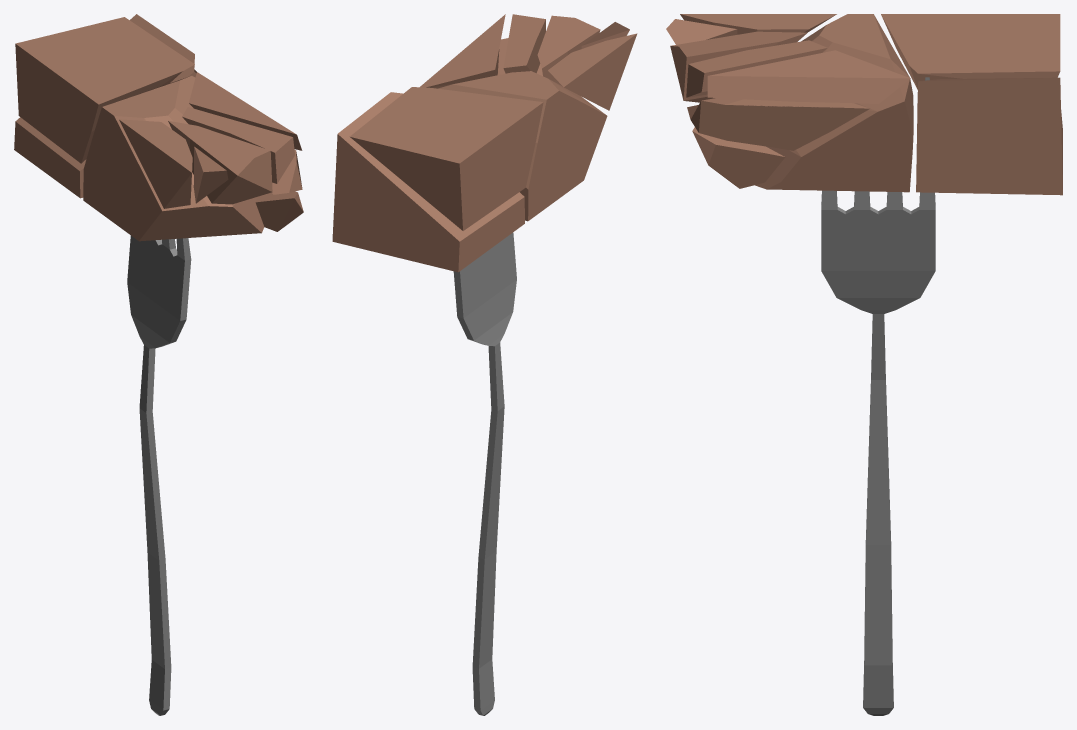
File: hammer_kaputt.glb
3 views of the same model, side by side, from view 1: azimuth 30°, elevation 25°; view 2: azimuth 150°, elevation 25°; view 3: azimuth 270°, elevation 25° (orthographic). The views are drawn at different scales.
Visible parts, largest first — view 1: Cube_cell.031_cell.003, Cube_cell.031_cell.008, Gabel, Cube_cell.031_cell.002, Gabel.001, Cube_cell.031_cell.009, Cube_cell.031_cell.006, Cube_cell.031_cell, Cube_cell.031_cell.004, Cube_cell.031_cell.007, Cube_cell.031_cell.005, Cube_cell.031_cell.001; view 2: Cube_cell.031_cell.003, Cube_cell.031_cell.006, Cube_cell.031_cell.008, Gabel, Gabel.001, Cube_cell.031_cell.009, Cube_cell.031_cell.004, Cube_cell.031_cell.002, Cube_cell.031_cell, Cube_cell.031_cell.005; view 3: Cube_cell.031_cell.006, Gabel, Cube_cell.031_cell.008, Cube_cell.031_cell.003, Cube_cell.031_cell.004, Cube_cell.031_cell.001, Gabel.001, Cube_cell.031_cell.007, Cube_cell.031_cell.002, Cube_cell.031_cell, Cube_cell.031_cell.009, Cube_cell.031_cell.005.
Part boxes in pixels (x1,y1,x2,y2): Cube_cell.031_cell.003: (15,17,194,163); Cube_cell.031_cell.008: (83,76,264,241); Gabel: (127,235,191,560); Cube_cell.031_cell.002: (168,120,272,204); Gabel.001: (141,442,171,715); Cube_cell.031_cell.009: (119,119,192,208); Cube_cell.031_cell.006: (14,14,196,198); Cube_cell.031_cell: (182,107,294,183); Cube_cell.031_cell.004: (189,72,302,150); Cube_cell.031_cell.007: (255,191,303,231); Cube_cell.031_cell.005: (193,146,228,203); Cube_cell.031_cell.001: (268,150,302,194); Cube_cell.031_cell.003: (350,87,543,230); Cube_cell.031_cell.006: (332,92,524,272); Cube_cell.031_cell.008: (438,71,607,221); Gabel: (453,232,516,453); Gabel.001: (472,435,502,715); Cube_cell.031_cell.009: (548,33,637,110); Cube_cell.031_cell.004: (420,14,505,88); Cube_cell.031_cell.002: (537,15,600,86); Cube_cell.031_cell: (503,14,545,73); Cube_cell.031_cell.005: (581,22,629,48); Cube_cell.031_cell.006: (916,77,1062,195); Gabel: (821,77,935,544); Cube_cell.031_cell.008: (755,14,913,192); Cube_cell.031_cell.003: (881,14,1060,89); Cube_cell.031_cell.004: (707,50,910,104); Cube_cell.031_cell.001: (687,98,869,150); Gabel.001: (863,427,893,715); Cube_cell.031_cell.007: (692,127,785,188); Cube_cell.031_cell.002: (670,31,807,102); Cube_cell.031_cell: (686,40,827,97); Cube_cell.031_cell.009: (680,14,836,34); Cube_cell.031_cell.005: (666,19,737,44).
Size of the model in its own units: 0.0408 by 0.1944 by 0.1042.
